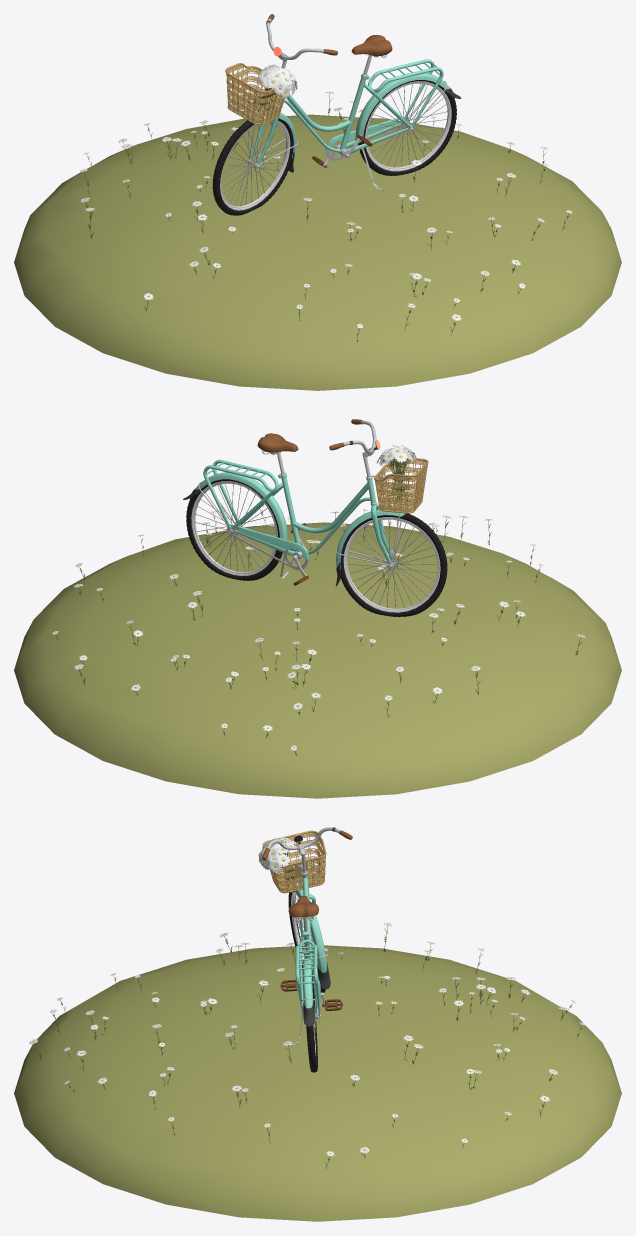
The model's file is RetroBike.glb.
3 views of the same model, one above another, from view 1: azimuth 30°, elevation 25°; view 2: azimuth 150°, elevation 25°; view 3: azimuth 270°, elevation 25° (orthographic).
Visible parts, largest first — view 1: pCube112, polySurface1533, polySurface1512, polySurface1118, polySurface1343, polySurface665, polySurface1315, polySurface1540, pCube55, pCube110, polySurface845, polySurface843; view 2: pCube112, polySurface1533, polySurface1512, polySurface665, polySurface1118, polySurface1315, polySurface1343, polySurface1540, polySurface540, polySurface538, polySurface1188, polySurface845 (+5 smaller); view 3: pCube112, polySurface1533, polySurface1315, polySurface546, pCube109.
Boxes of the visible parts, box(x1,y1,x2,y2) form: pCube112: box(14, 114, 621, 390); polySurface1533: box(225, 63, 284, 124); polySurface1512: box(212, 118, 293, 215); polySurface1118: box(358, 80, 456, 175); polySurface1343: box(367, 83, 447, 167); polySurface665: box(221, 122, 286, 206); polySurface1315: box(368, 59, 443, 126); polySurface1540: box(355, 73, 450, 143); pCube55: box(351, 35, 392, 56); pCube110: box(253, 68, 292, 111); polySurface845: box(366, 82, 449, 169); polySurface843: box(365, 81, 451, 171); pCube112: box(14, 522, 621, 798); polySurface1533: box(374, 458, 428, 513); polySurface1512: box(340, 513, 447, 616); polySurface665: box(347, 520, 437, 608); polySurface1118: box(186, 479, 282, 580); polySurface1315: box(203, 459, 278, 528); polySurface1343: box(195, 484, 275, 571); polySurface1540: box(194, 472, 287, 539); polySurface540: box(343, 517, 440, 612); polySurface538: box(345, 518, 438, 610); polySurface1188: box(238, 526, 309, 559); polySurface845: box(193, 482, 276, 574); pCube112: box(14, 945, 621, 1221); polySurface1533: box(262, 830, 326, 893); polySurface1315: box(295, 944, 319, 1017); polySurface546: box(295, 889, 326, 972); pCube109: box(261, 841, 294, 878).
Size of the model in its own units: 17.47 by 7.78 by 17.47.
